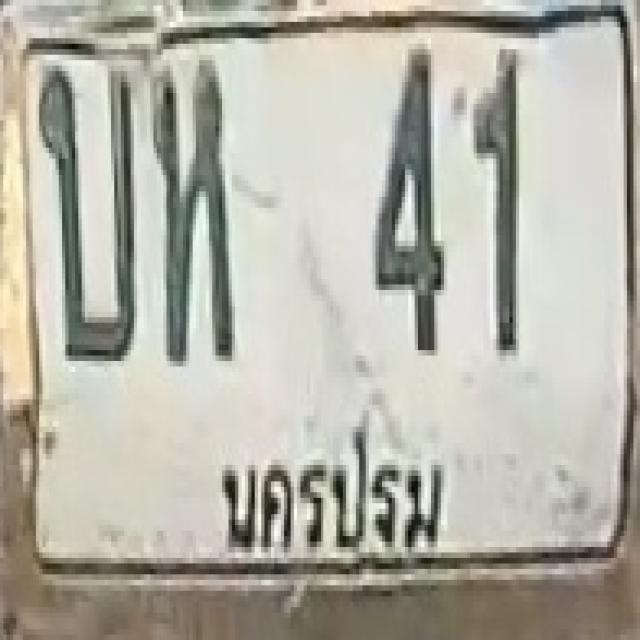1: (472, 49, 521, 356)
4: (372, 46, 444, 353)
A26: (36, 60, 137, 361)
A41: (154, 57, 235, 364)
NPT: (210, 423, 448, 573)
